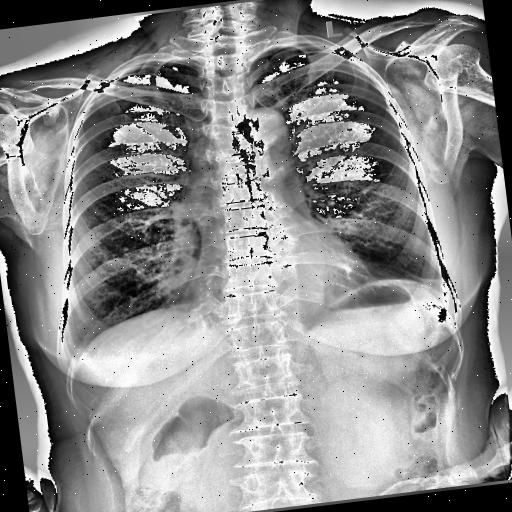0- Aortic enlargement: (234, 105, 295, 168)
10- Pleural effusion: (416, 266, 460, 312), (59, 337, 95, 380), (423, 260, 456, 306)
11- Pleural thickening: (416, 266, 460, 312), (59, 337, 95, 380), (423, 260, 456, 306)
13- Pulmonary fibrosis: (376, 250, 442, 291), (406, 266, 440, 288), (410, 270, 444, 291)
